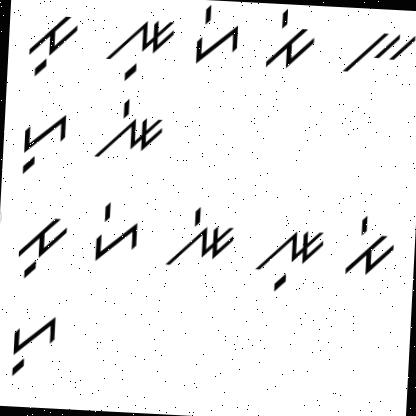he: (88, 200, 143, 270), (192, 3, 244, 72)
hu: (5, 311, 63, 380), (14, 106, 70, 176)
mbe: (258, 4, 322, 79), (340, 211, 400, 278)
mbu: (10, 212, 74, 283), (24, 9, 86, 78)
nde: (86, 92, 172, 168), (164, 197, 240, 272)
ndu: (247, 221, 328, 294), (99, 14, 178, 83)
